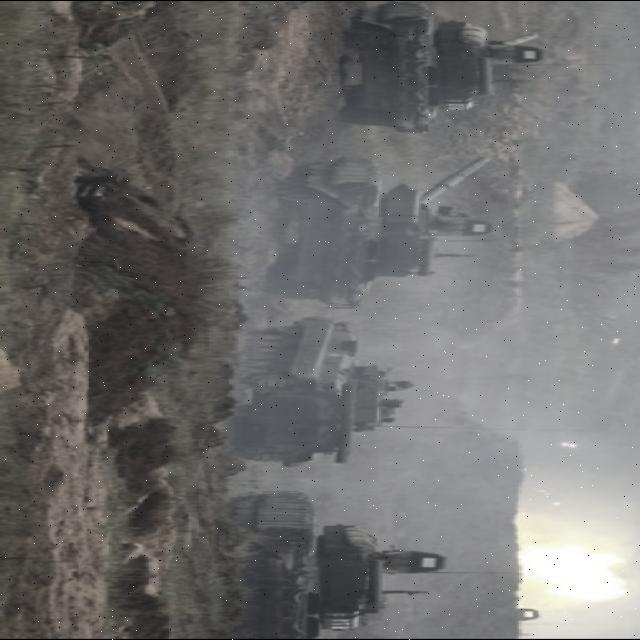APC-IFV: (225, 316, 418, 464)
TANK: (225, 489, 451, 639), (285, 152, 491, 308), (343, 2, 544, 134)
